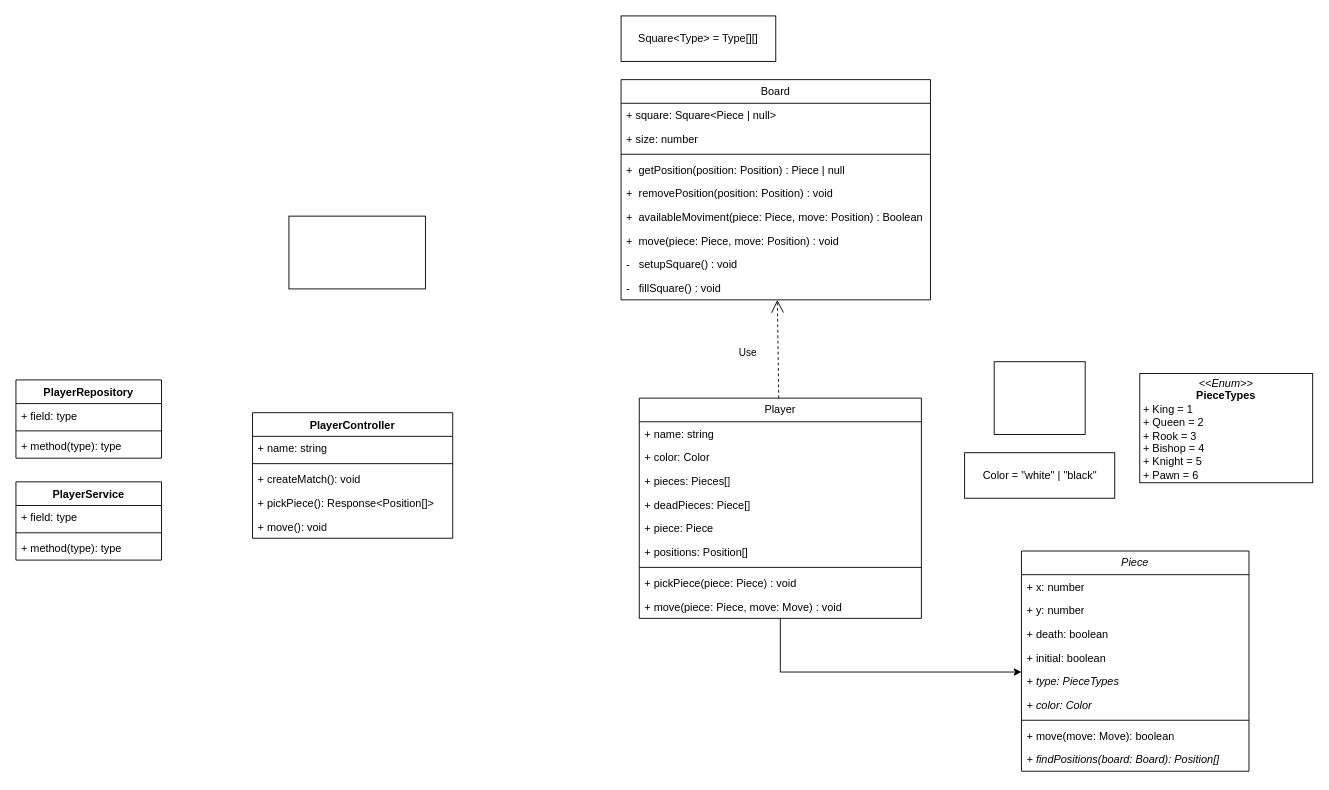
This 1329x790 diagram has some shape labels left out. Here are the shapes that lost their labels. From the top down, the centre of each, then its label:
(x=356, y=252): <<Interface>> Response<Type> + data: Type
(x=1039, y=398): <<Interface>> Position + x: number + y: number
